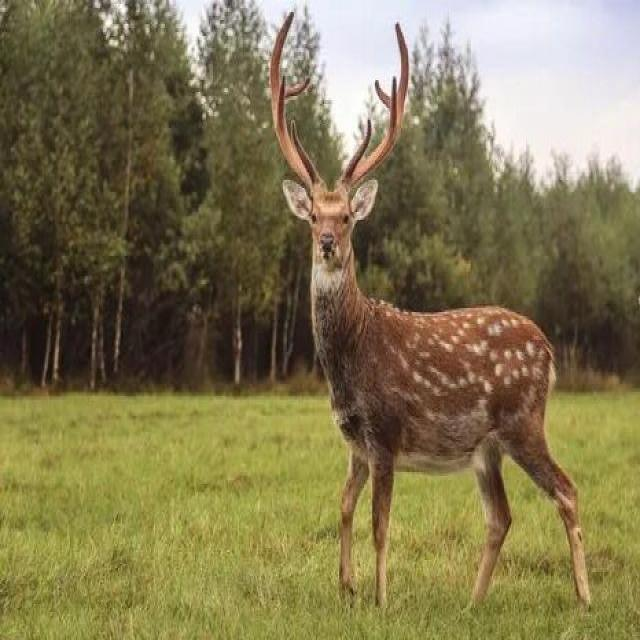deer: (248, 78, 536, 557)
